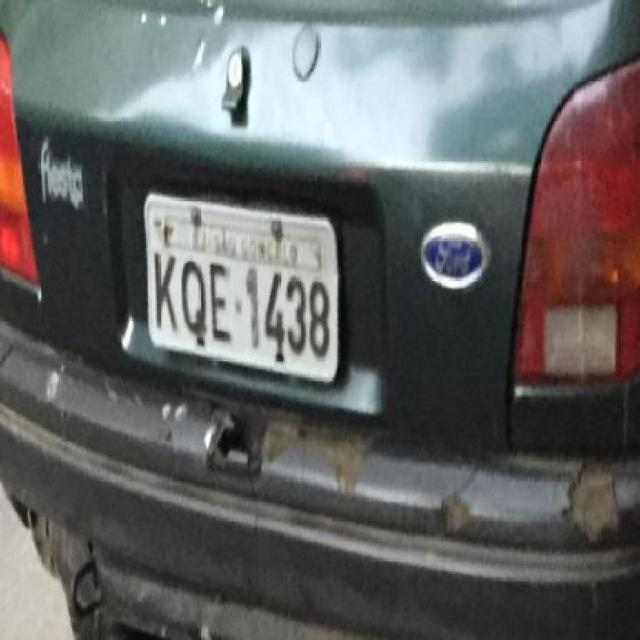old_plate: (136, 187, 355, 389)
